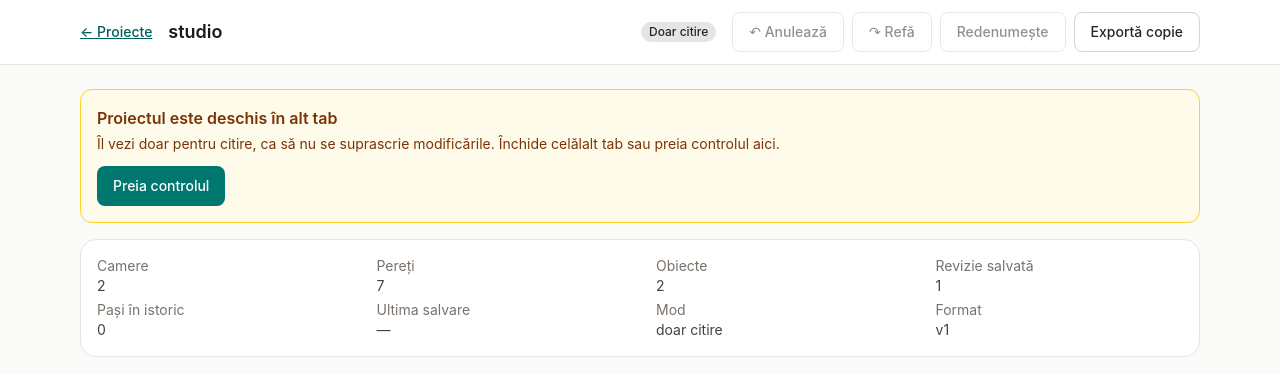
Test case: Editor — doar-citire, preluarea controlului și conflicte › proiect deschis în alt tab → doar-citire cu bannerul „Preia controlul”; după preluare devine editabil
The width and height of the screenshot is (1280, 374).
Expected: the text "Proiectul este deschis în alt tab" is shown, [97, 108, 338, 128]
Expected: the text with test id "mode" reads "doar citire", [656, 321, 723, 338]
Click the button "Preia controlul": [161, 186] box [97, 166, 225, 206]
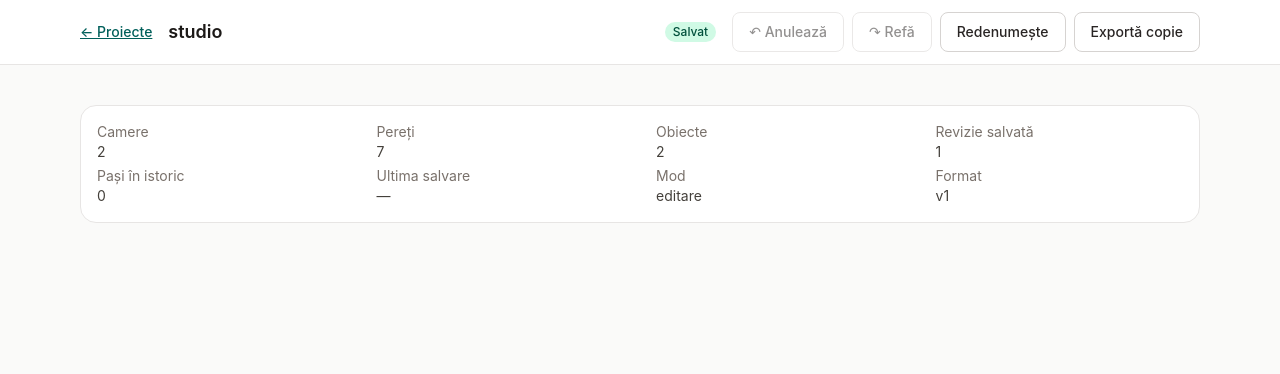
Now the text with test id "mode" reads "editare", box [656, 187, 702, 204]
Now the message with test id "banner-readonly" is gone
